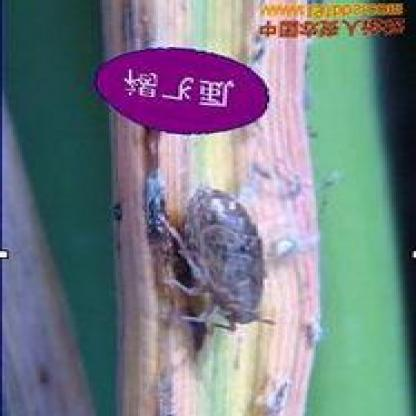brown-planthopper: (169, 180, 275, 330)
